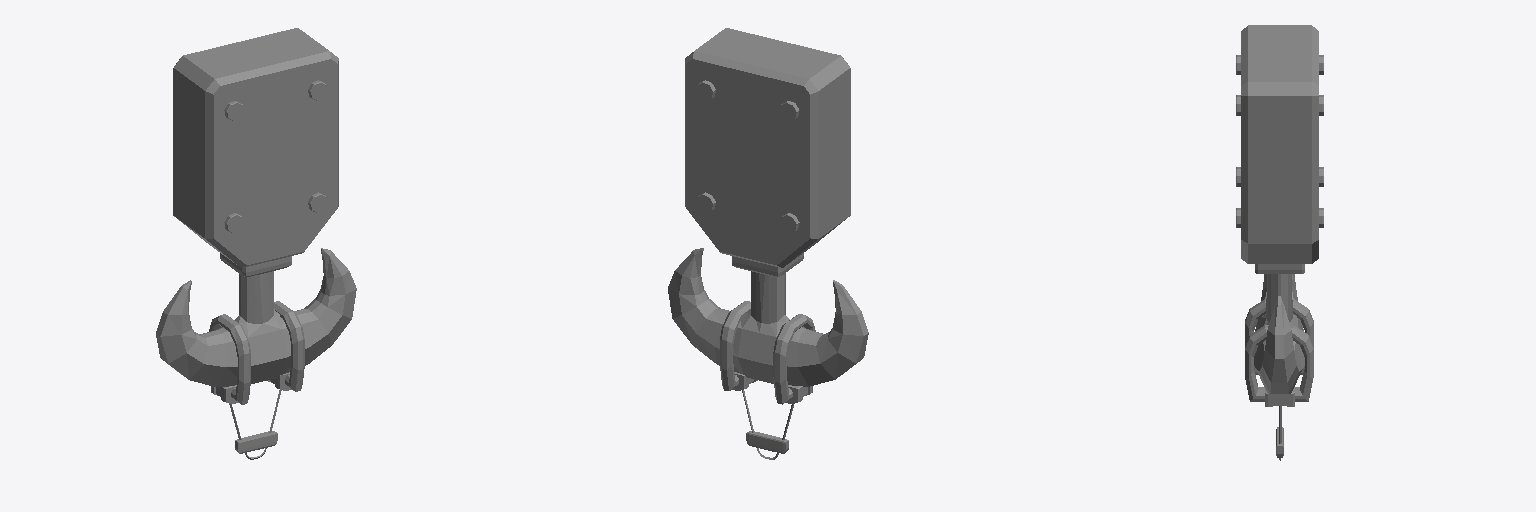
File: cpz_obj_tn1_cranehook.obj
The picture shows the model from 3 angles: view 1: azimuth 30°, elevation 25°; view 2: azimuth 150°, elevation 25°; view 3: azimuth 270°, elevation 25°; orthographic projection.
Parts seen in each view (by area): view 1: ccp_metal_yy_yelow02_cmn_dp, cpz_metal_yy1_wall02_dif_cmn_dpn, cpz_wall_st1_column01_Lumi_dpnE, cpz_metal_st1_light01_cmn_dpnE, ccp_metal_yy_circle_Cmn_dpn; view 2: ccp_metal_yy_yelow02_cmn_dp, cpz_metal_yy1_wall02_dif_cmn_dpn, cpz_wall_st1_column01_Lumi_dpnE, cpz_metal_st1_light01_cmn_dpnE, ccp_metal_yy_circle_Cmn_dpn; view 3: ccp_metal_yy_yelow02_cmn_dp, cpz_metal_yy1_wall02_dif_cmn_dpn, cpz_wall_st1_column01_Lumi_dpnE, cpz_metal_st1_light01_cmn_dpnE, ccp_metal_yy_floor4_cmn_dpn.
Part boxes in pixels (x1,y1,x2,y2): ccp_metal_yy_yelow02_cmn_dp: (173, 28, 338, 267); cpz_metal_yy1_wall02_dif_cmn_dpn: (156, 248, 356, 386); cpz_wall_st1_column01_Lumi_dpnE: (209, 301, 304, 404); cpz_metal_st1_light01_cmn_dpnE: (211, 253, 291, 453); ccp_metal_yy_circle_Cmn_dpn: (227, 83, 326, 232); ccp_metal_yy_yelow02_cmn_dp: (685, 28, 850, 267); cpz_metal_yy1_wall02_dif_cmn_dpn: (668, 248, 868, 386); cpz_wall_st1_column01_Lumi_dpnE: (720, 301, 815, 404); cpz_metal_st1_light01_cmn_dpnE: (732, 253, 812, 453); ccp_metal_yy_circle_Cmn_dpn: (697, 83, 796, 232); ccp_metal_yy_yelow02_cmn_dp: (1241, 25, 1318, 263); cpz_metal_yy1_wall02_dif_cmn_dpn: (1254, 274, 1304, 393); cpz_wall_st1_column01_Lumi_dpnE: (1245, 299, 1313, 401); cpz_metal_st1_light01_cmn_dpnE: (1255, 264, 1304, 457); ccp_metal_yy_floor4_cmn_dpn: (1236, 55, 1323, 227).
Size of the model in its own units: 93.78 by 185 by 36.41.